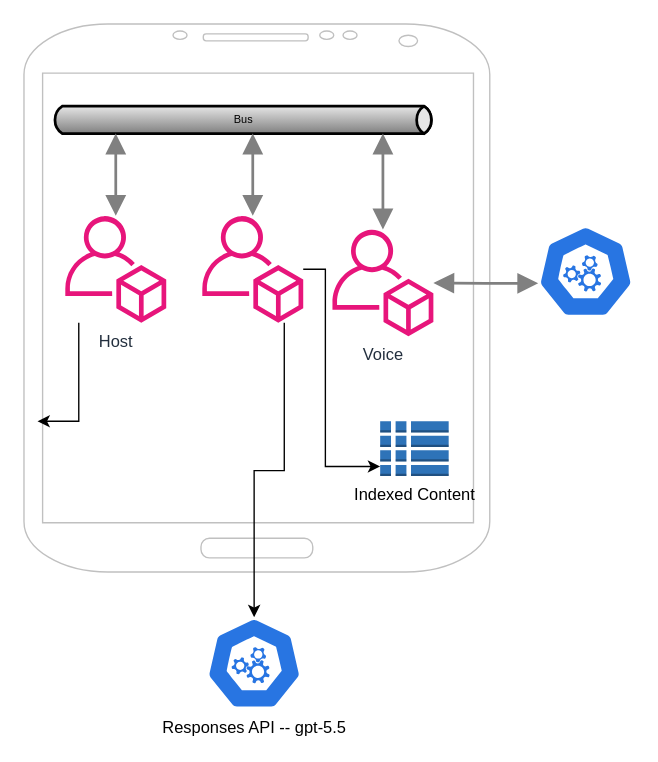
Image size: 658x762. Some labels were removed from this diagram. Each missing label, with the centre of its shape:
"gpt-realtime" goes at pixel 585 270.
"Oracle" goes at pixel 252 268.
